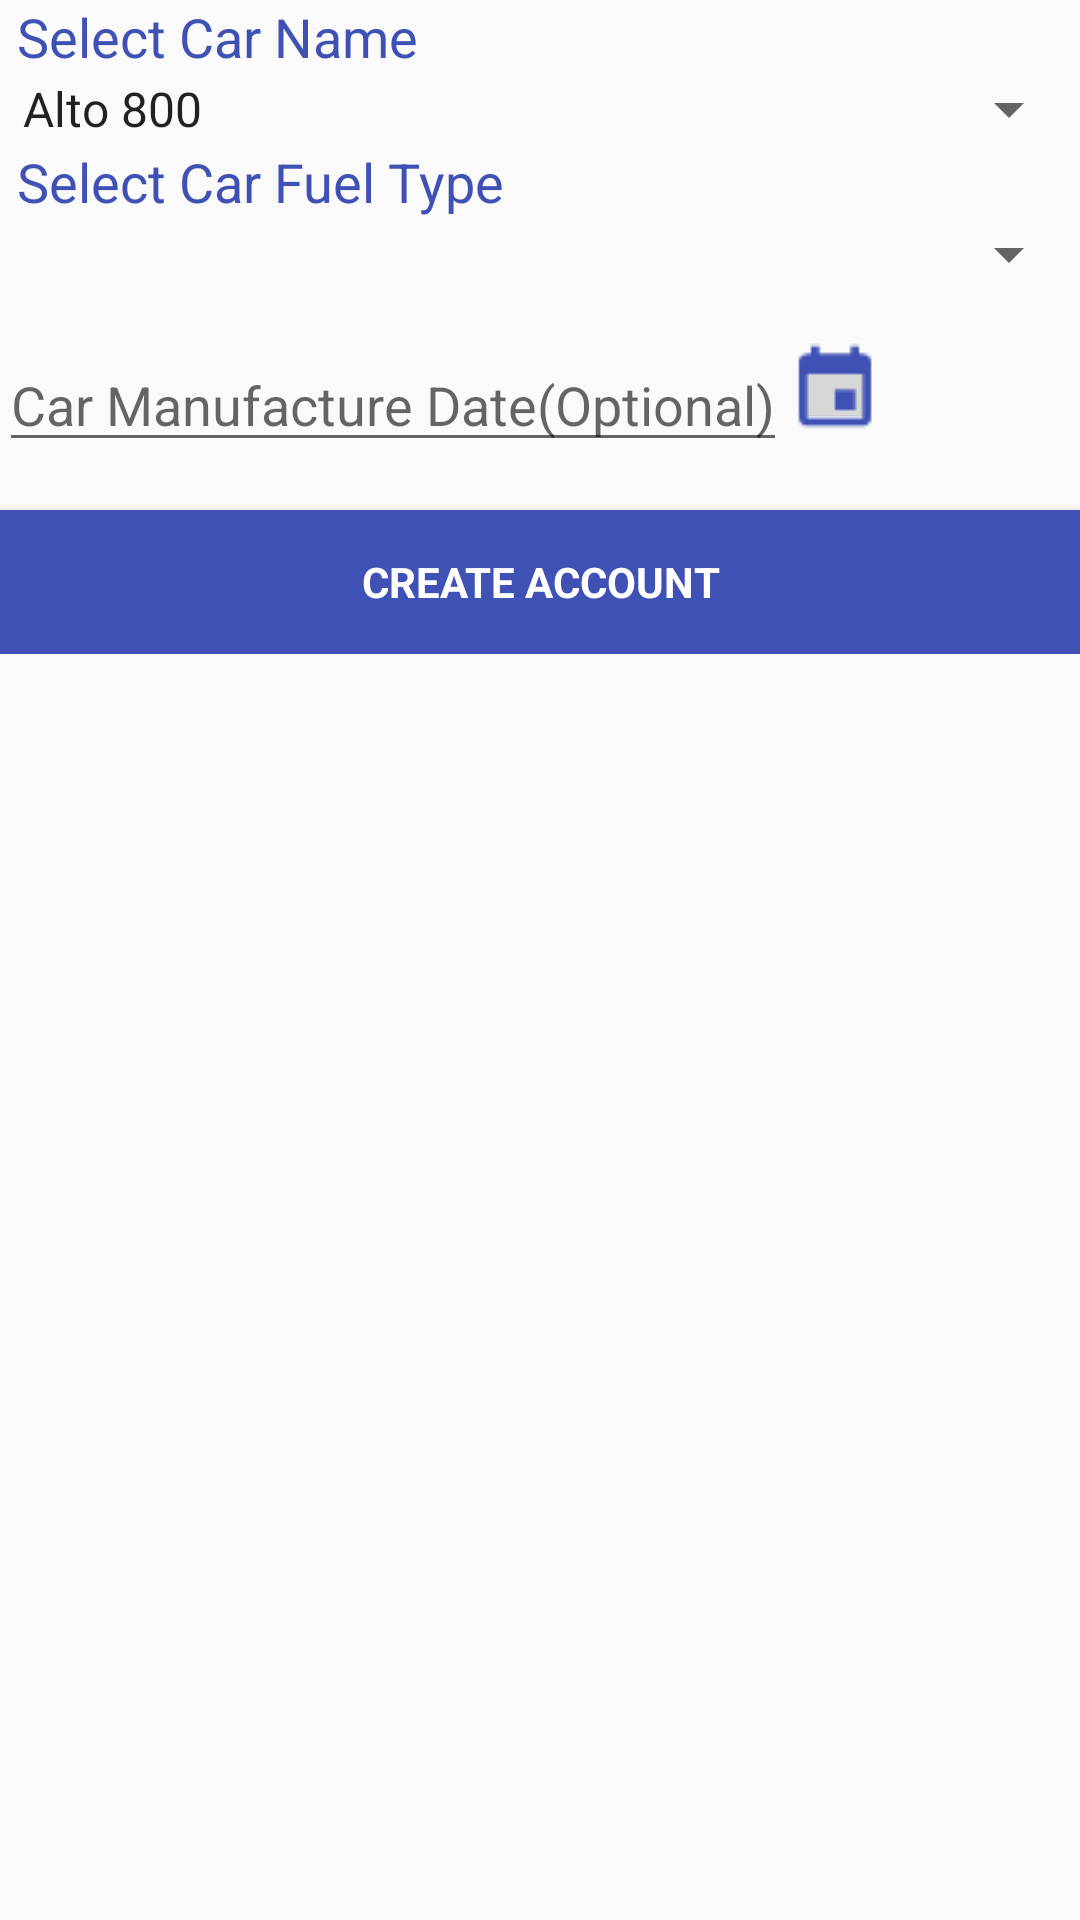

Icon click points for this 1080w x 1920h phone screenshot, format (x,y):
calendar: (835,386)
